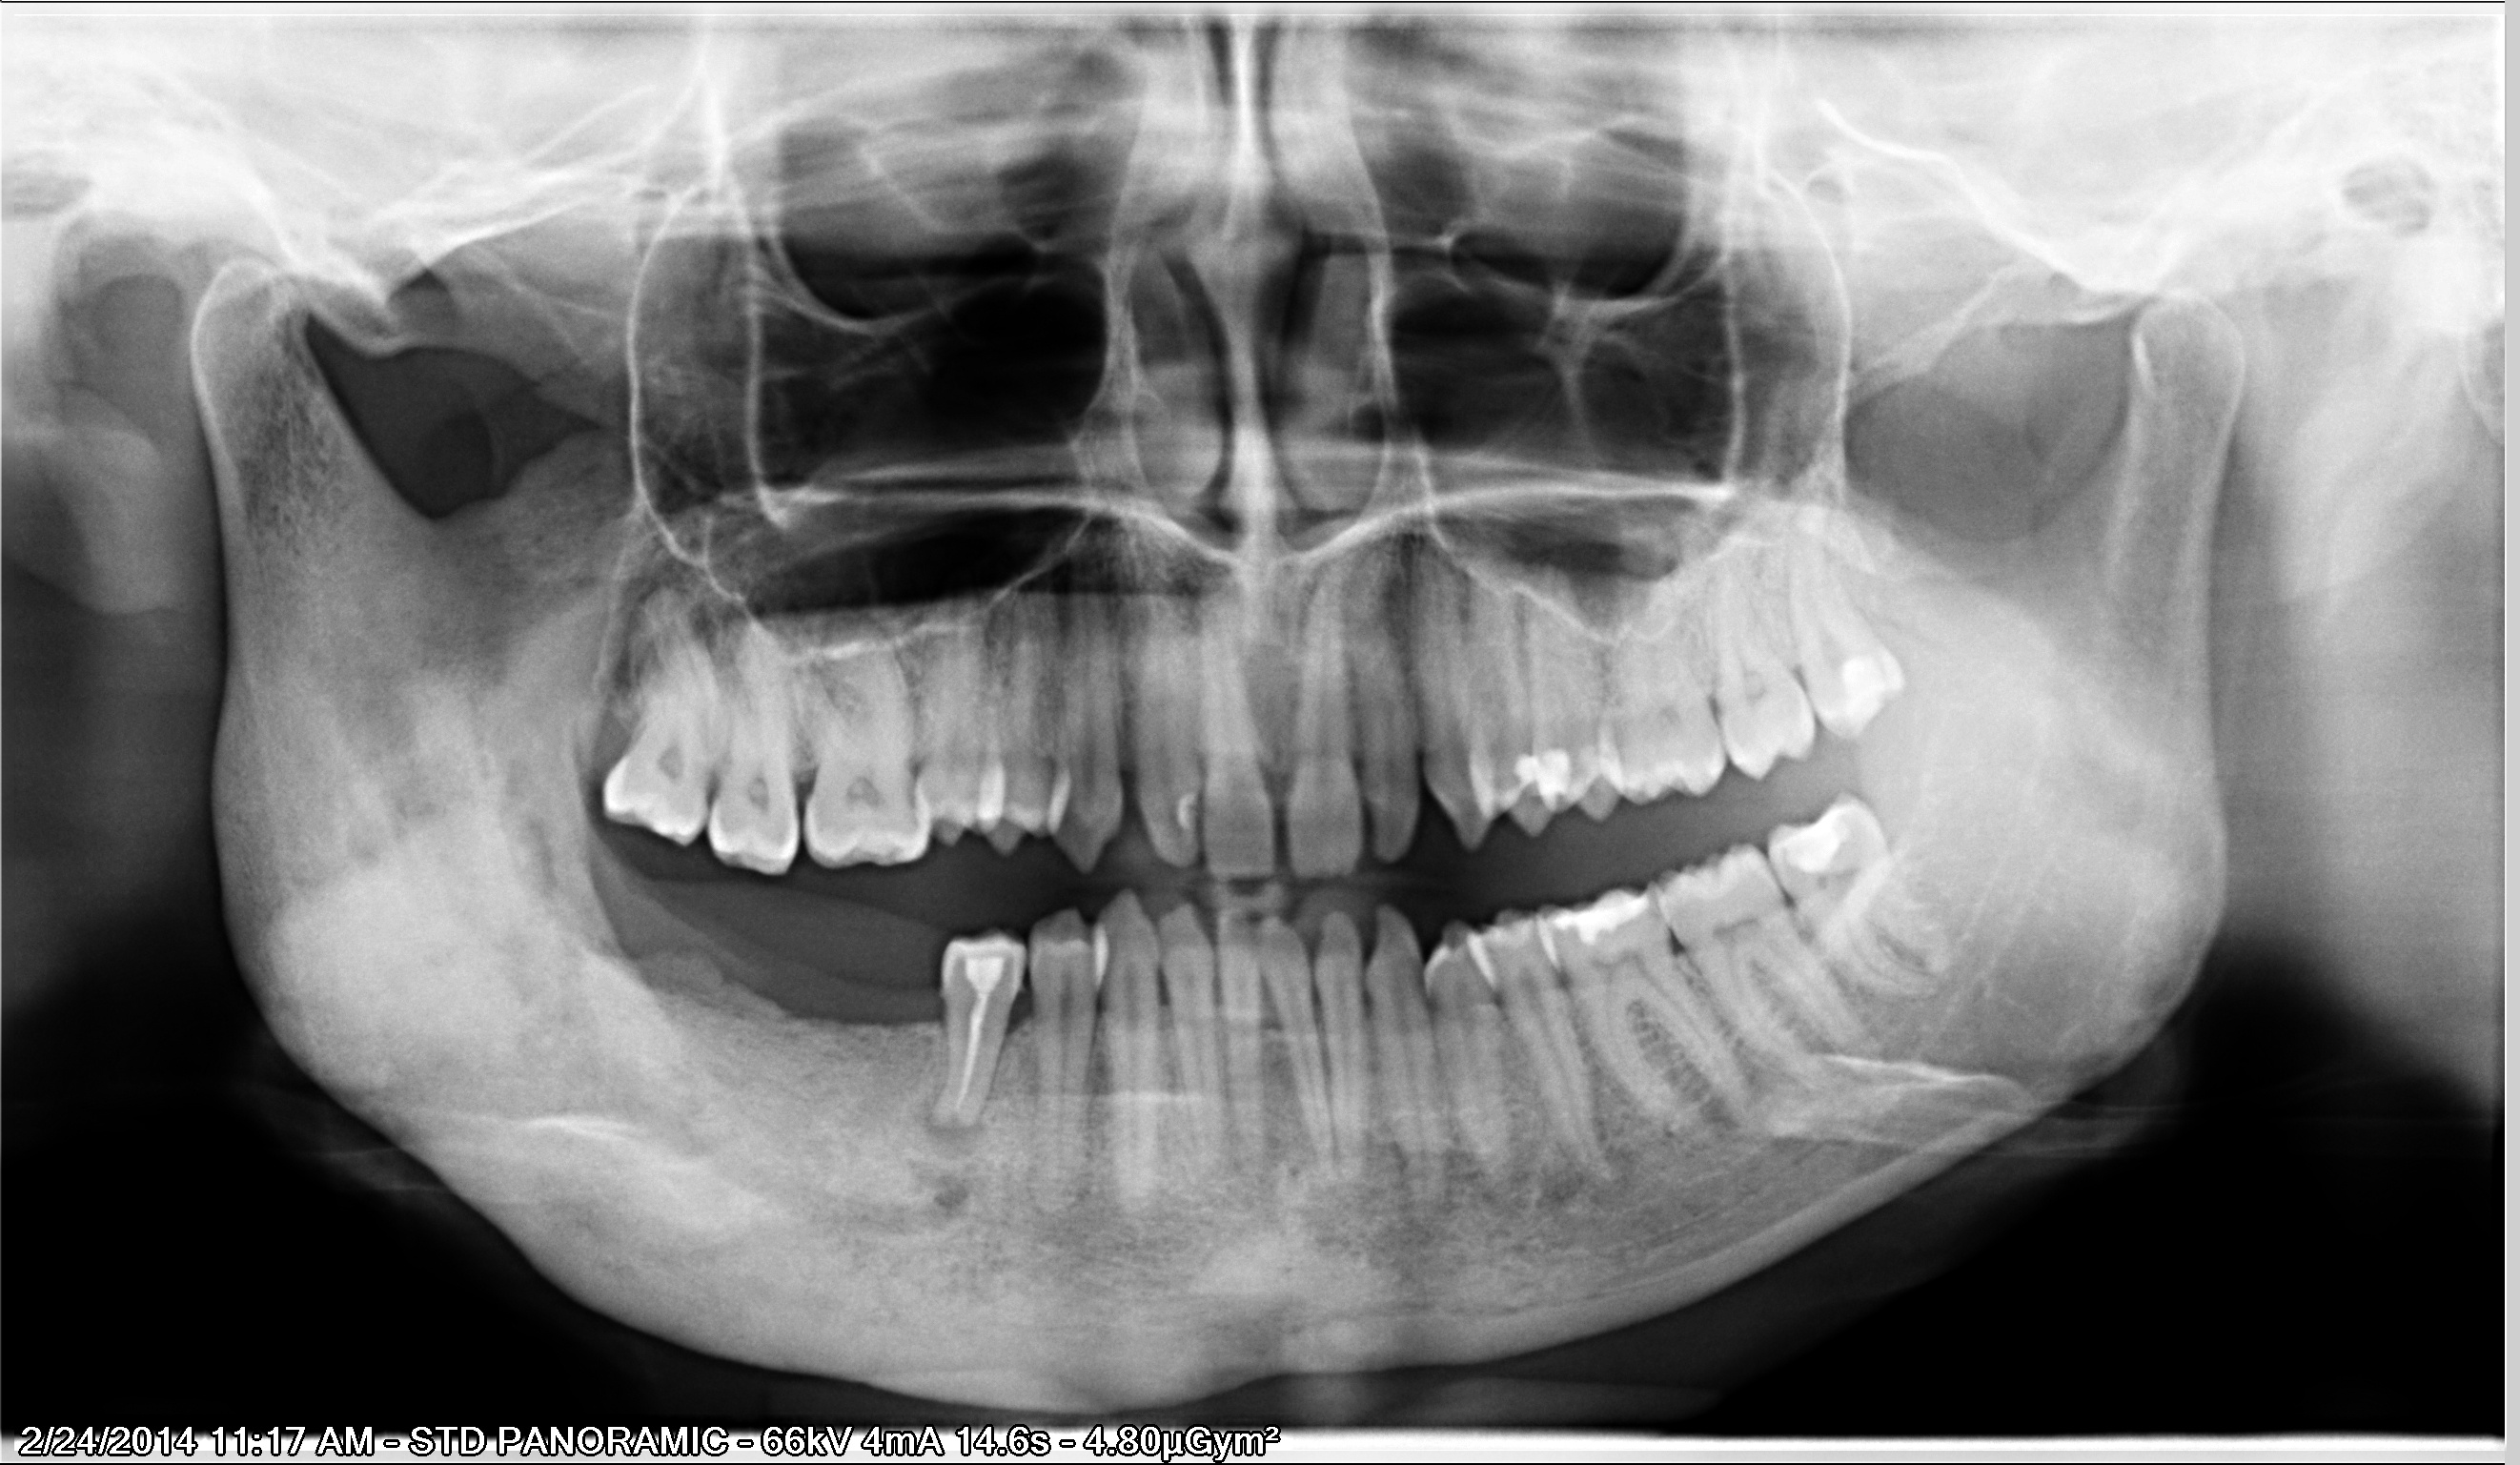APS: (923, 1094, 989, 1169)
END: (945, 996, 1001, 1123)
PRR: (1543, 870, 1657, 957), (1786, 792, 1845, 891), (1826, 644, 1894, 726), (952, 942, 1020, 1006), (1163, 773, 1209, 846), (1533, 745, 1575, 809), (1500, 743, 1542, 797)
